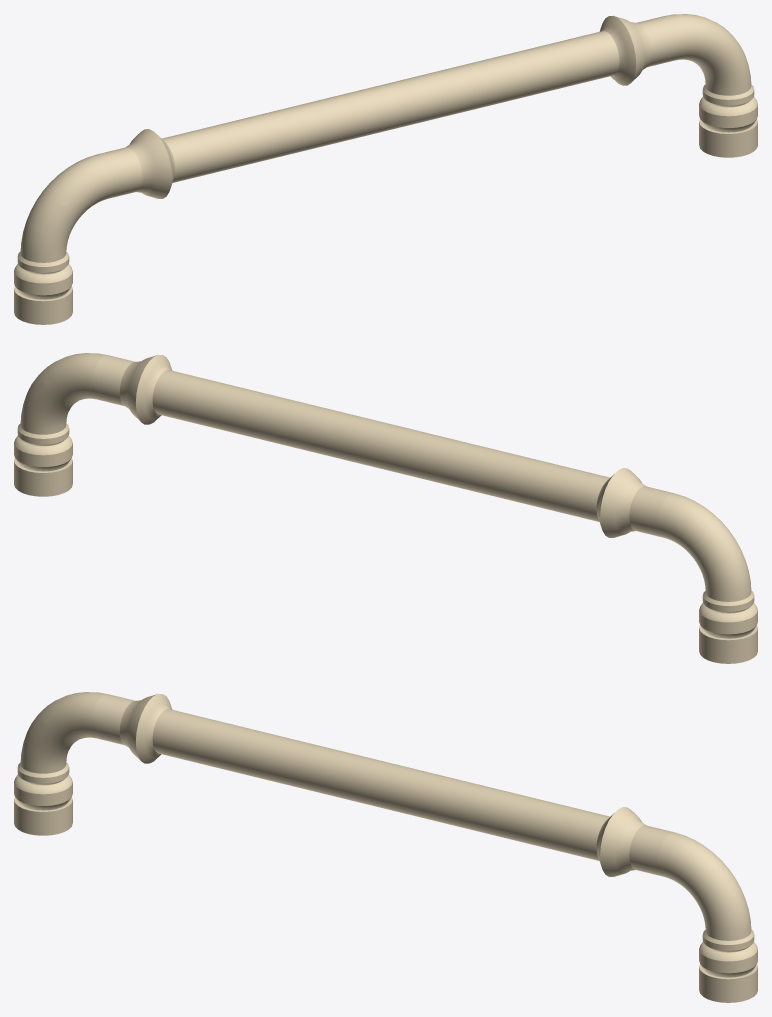
The model's file is brixton.glb.
The picture shows the model from 3 angles, top to bottom: view 1: azimuth 30°, elevation 25°; view 2: azimuth 150°, elevation 25°; view 3: azimuth 330°, elevation 25°; orthographic projection.
Visible parts, largest first — view 1: Geom3D, Geom3D_ (×6); view 2: Geom3D, Geom3D_ (×6); view 3: Geom3D, Geom3D_ (×6).
Boxes of the visible parts, x1,y1,x2,y2 form: Geom3D: (20,14,751,262); Geom3D_ (×6): (14,84,757,324); Geom3D: (20,353,751,601); Geom3D_ (×6): (14,423,757,663); Geom3D: (20,692,751,940); Geom3D_ (×6): (14,762,757,1002).
Bounding box in the file's own units: 0.2064 × 0.0413 × 0.0175.
